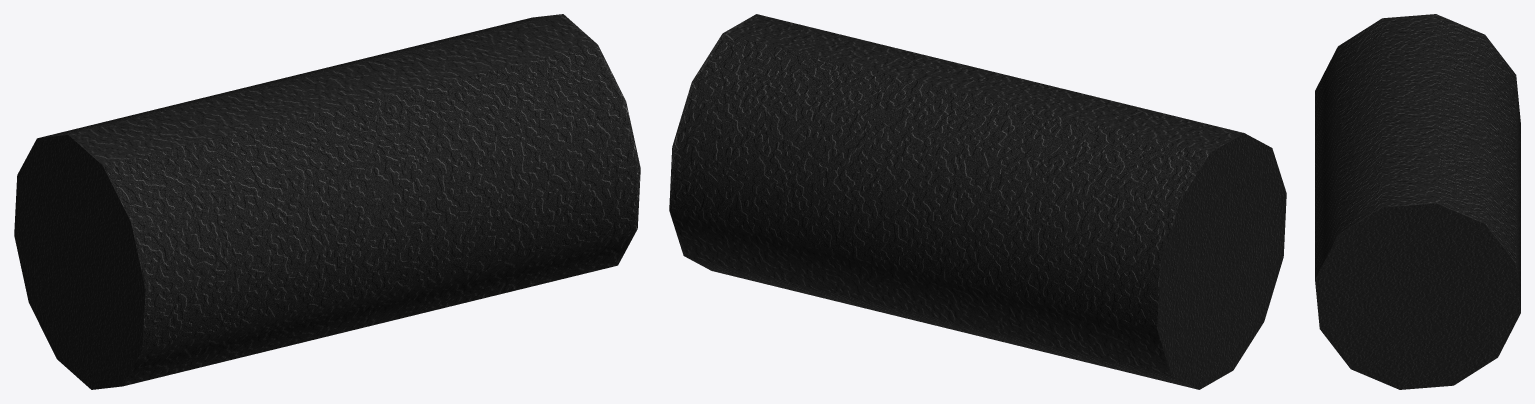
File: ra_cilinder01.obj
3 views of the same model, side by side, from view 1: azimuth 30°, elevation 25°; view 2: azimuth 150°, elevation 25°; view 3: azimuth 270°, elevation 25° (orthographic). The views are drawn at different scales.
Parts seen in each view (by area): view 1: cilinder1; view 2: cilinder1; view 3: cilinder1.
Boxes of the visible parts, box(x1,y1,x2,y2) form: cilinder1: box(14, 14, 640, 389); cilinder1: box(669, 14, 1286, 389); cilinder1: box(1315, 14, 1520, 389).
Size of the model in its own units: 19.25 by 8.85 by 8.85.
Materials: 1 (1 with a texture image).
